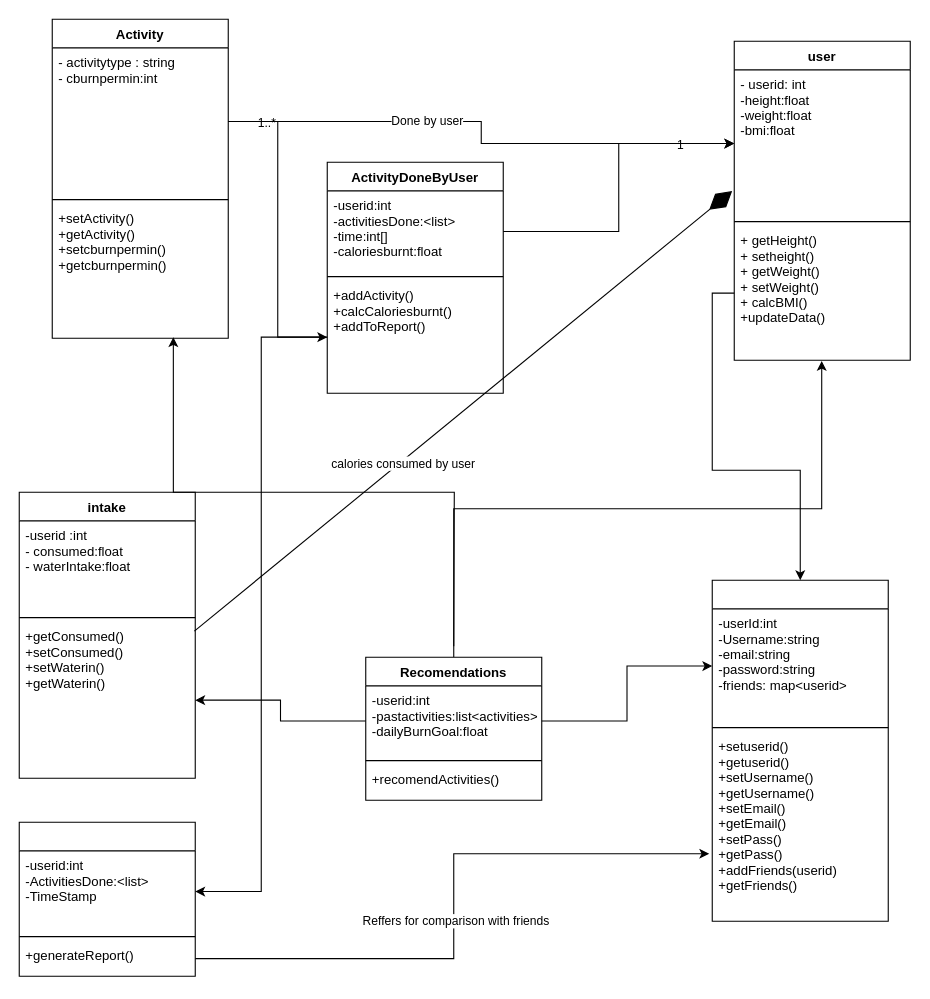
Some shapes in this 930 by 999 pixel diagram are drawn without their labels. The shapes that lost their labels are listed below. From the top down, each one's box as (x1, y1, x2, y2) in pixels, then its label:
(711, 579, 888, 921): UserDetails
(18, 821, 195, 976): ActivityReport
